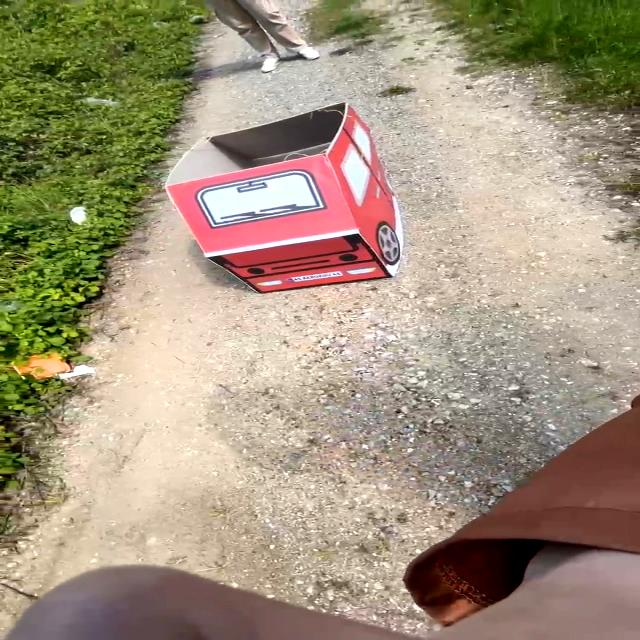red_car: (133, 86, 459, 312)
